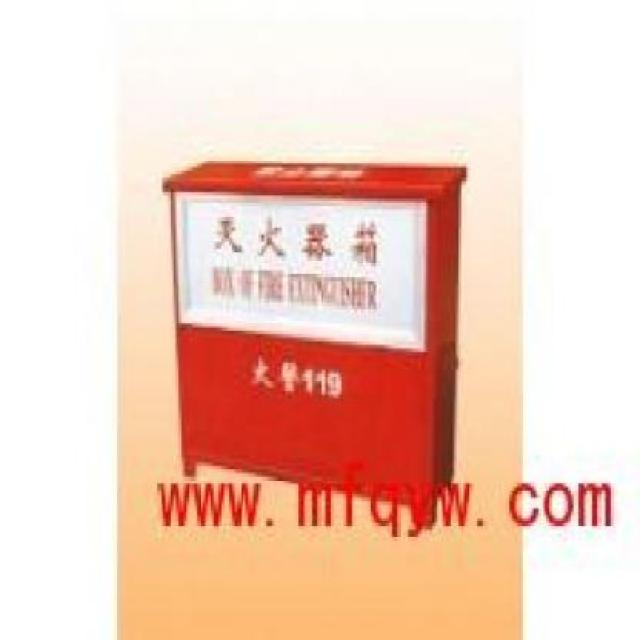firehydrant: (158, 154, 471, 522)
